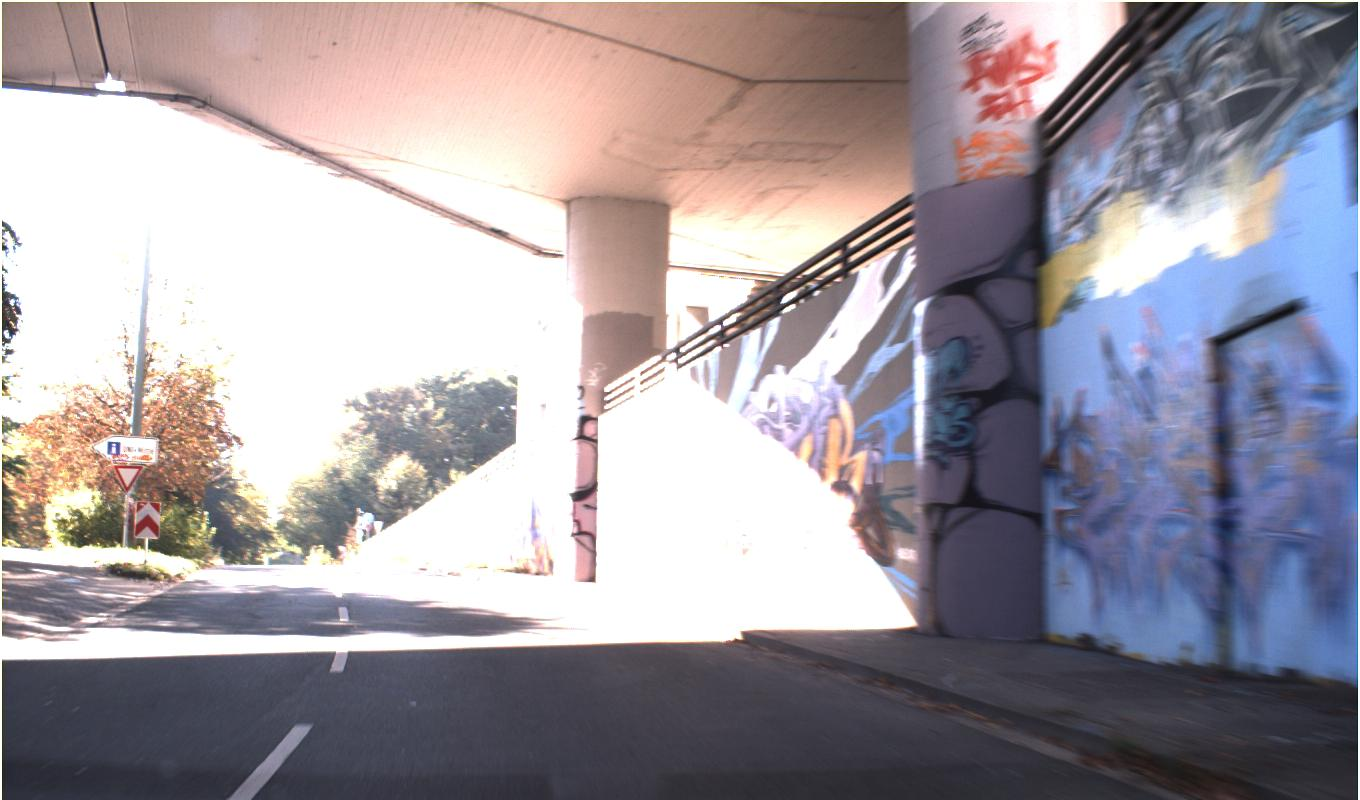sign: (112, 463, 143, 492)
